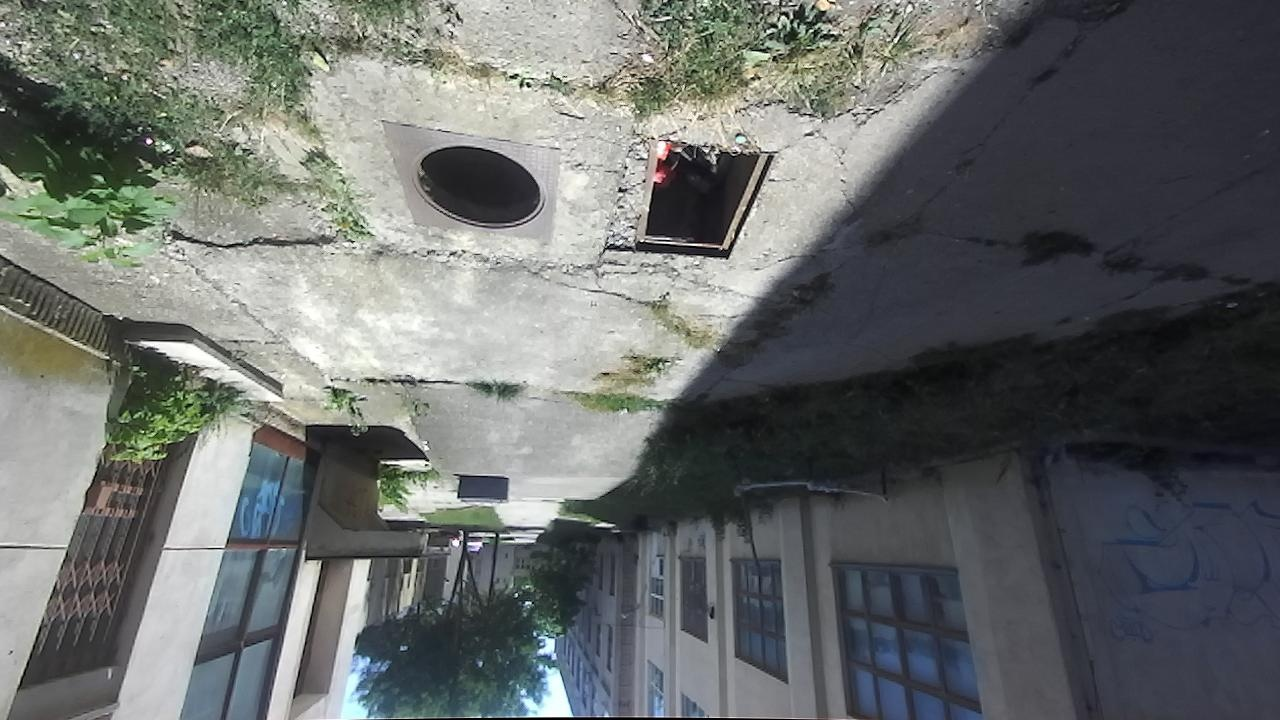drain: (607, 141, 780, 263), (402, 146, 543, 232)
